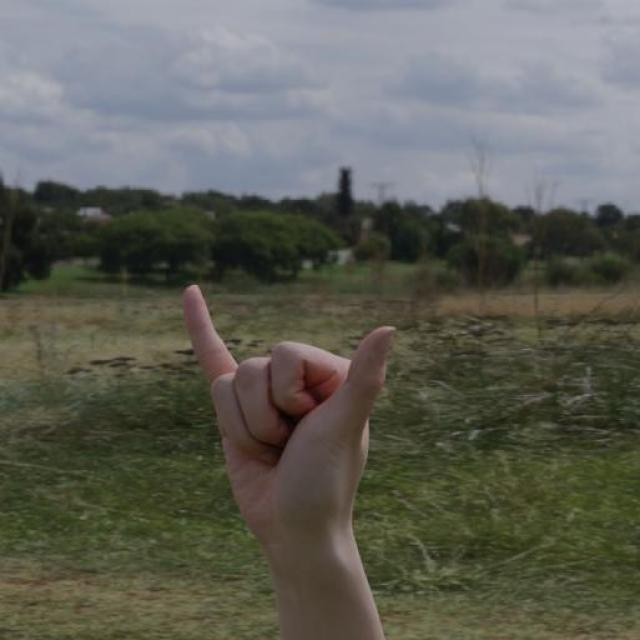Y: (180, 281, 399, 555)
